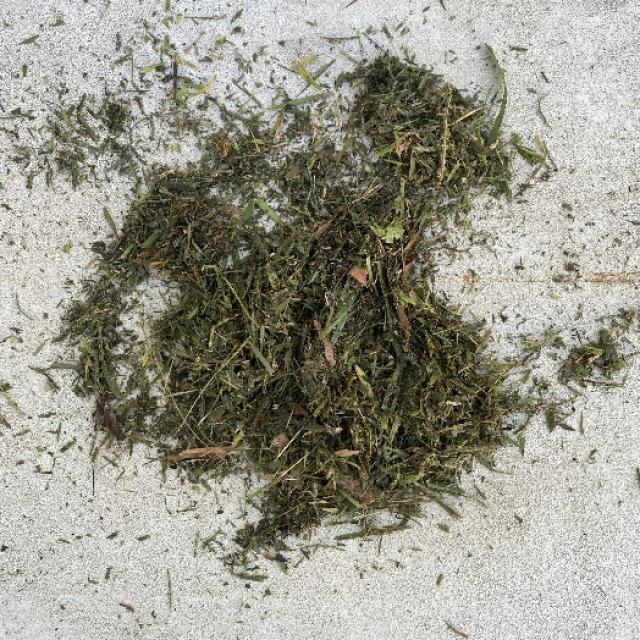organik: (88, 62, 550, 546)
